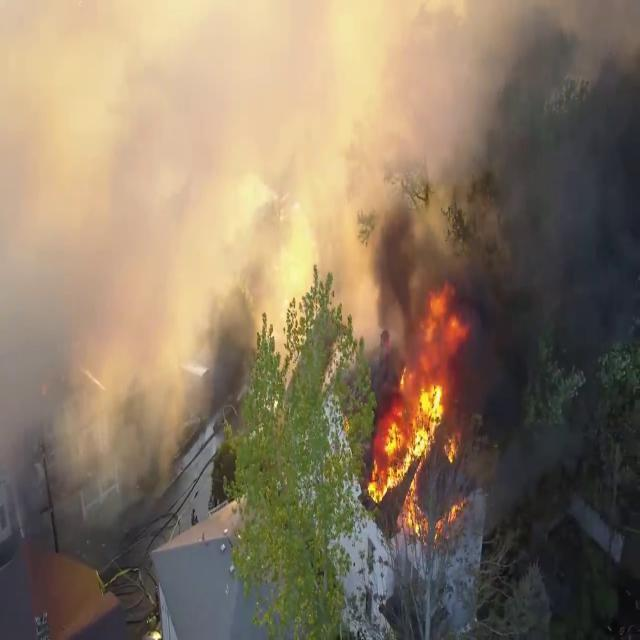Fire: (367, 352, 470, 533)
Smoke: (3, 0, 637, 366), (0, 0, 317, 520), (355, 1, 640, 390)
